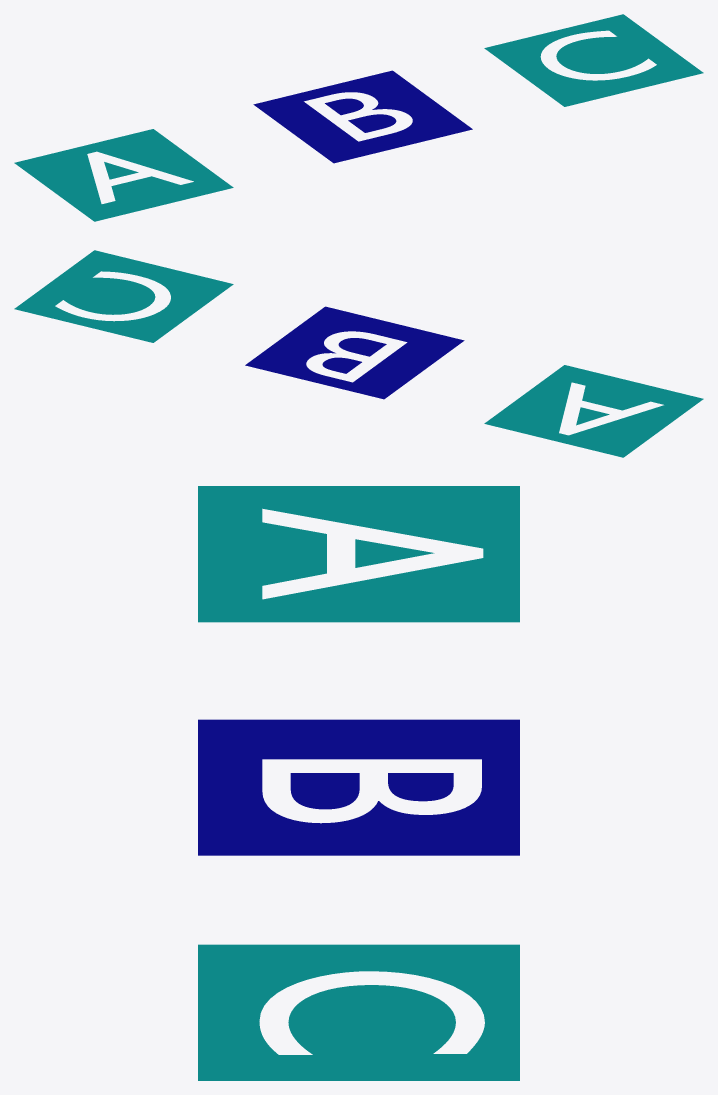
Rendered from ABCSign_5m.dae.
The picture shows the model from 3 angles, top to bottom: view 1: azimuth 30°, elevation 25°; view 2: azimuth 150°, elevation 25°; view 3: azimuth 270°, elevation 25°; orthographic projection. The views are drawn at different scales.
Visible parts, largest first — view 1: CCutoutScaled3x, ACutoutScaled3x, BCutoutScaled3x; view 2: CCutoutScaled3x, ACutoutScaled3x, BCutoutScaled3x; view 3: CCutoutScaled3x, ACutoutScaled3x, BCutoutScaled3x.
Part boxes in pixels (x1,y1,x2,y2): CCutoutScaled3x: (484,14,703,106); ACutoutScaled3x: (14,129,233,221); BCutoutScaled3x: (253,70,472,163); CCutoutScaled3x: (14,250,233,342); ACutoutScaled3x: (484,365,703,457); BCutoutScaled3x: (245,306,464,399); CCutoutScaled3x: (198,944,519,1080); ACutoutScaled3x: (198,486,519,622); BCutoutScaled3x: (198,719,519,855).
Size of the model in its own units: 13.11 by 3 by 1.42e-07.
